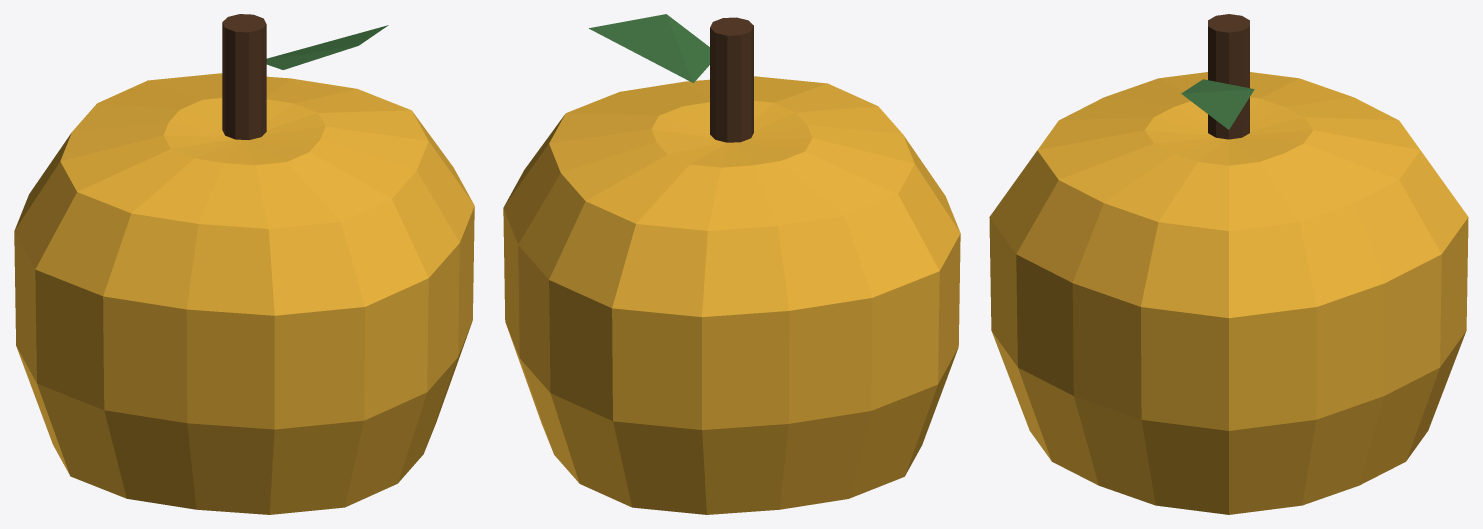
File: APPLE_HONEYGOLD_HANDOFF_1_3.obj
The picture shows the model from 3 angles, left to right: view 1: azimuth 30°, elevation 25°; view 2: azimuth 150°, elevation 25°; view 3: azimuth 270°, elevation 25°; orthographic projection.
Visible parts, largest first — view 1: ART003_PROP; view 2: ART003_PROP; view 3: ART003_PROP.
Boxes of the visible parts, <box> form: ART003_PROP: <box>14,14,474,514</box>; ART003_PROP: <box>503,14,960,514</box>; ART003_PROP: <box>989,14,1468,514</box>.
Size of the model in its own units: 1.3 by 1.32 by 1.3.
